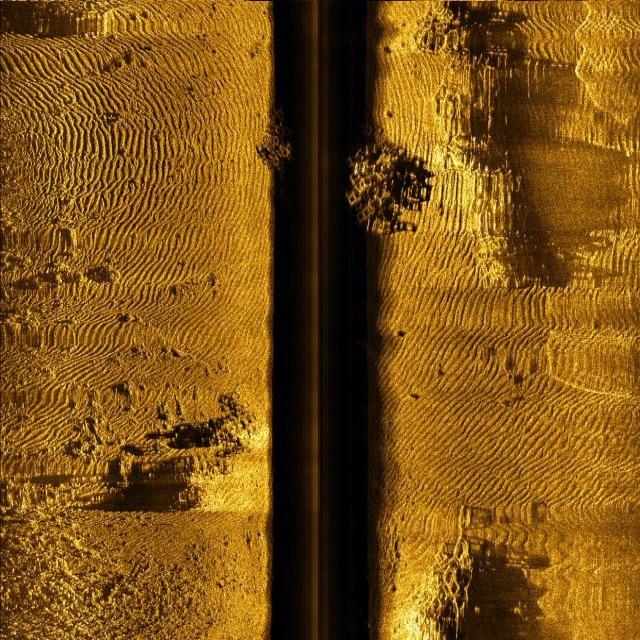artificial reef: (342, 127, 406, 249), (419, 515, 479, 640), (252, 88, 305, 189)
